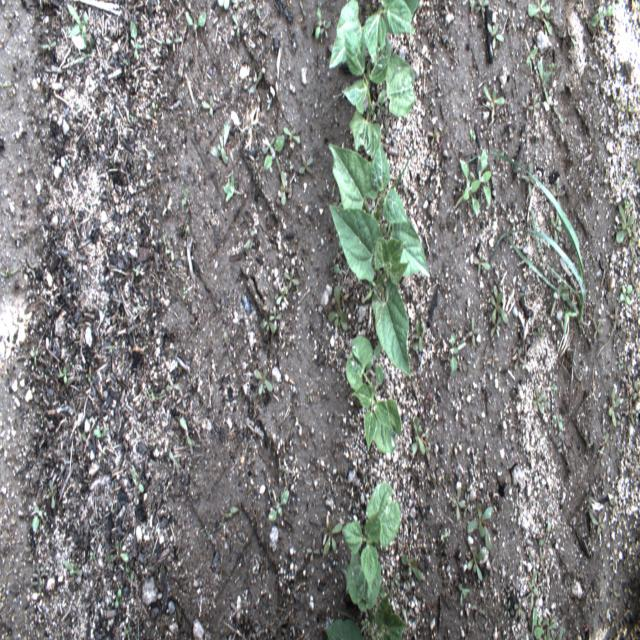crop: (328, 204, 412, 380), (327, 139, 432, 277), (328, 0, 420, 156), (341, 482, 401, 611), (344, 336, 400, 454), (325, 591, 410, 639)
weed: (464, 151, 586, 339), (460, 146, 491, 220), (468, 502, 494, 548), (491, 283, 508, 337), (328, 286, 348, 331), (528, 0, 552, 37), (264, 134, 285, 170), (413, 416, 430, 460), (616, 203, 635, 242), (467, 546, 486, 581), (322, 522, 342, 555), (269, 490, 289, 520), (400, 554, 423, 580), (608, 385, 621, 426), (589, 6, 613, 28), (484, 85, 506, 107), (487, 23, 504, 51)
